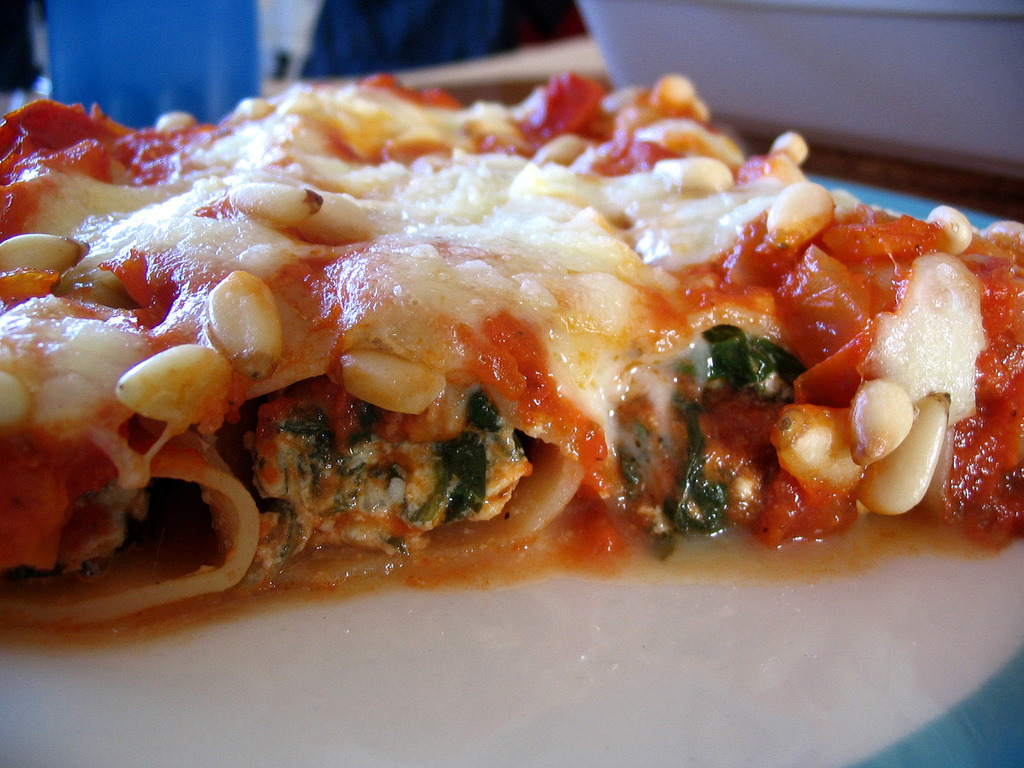person: (4, 0, 270, 129)
